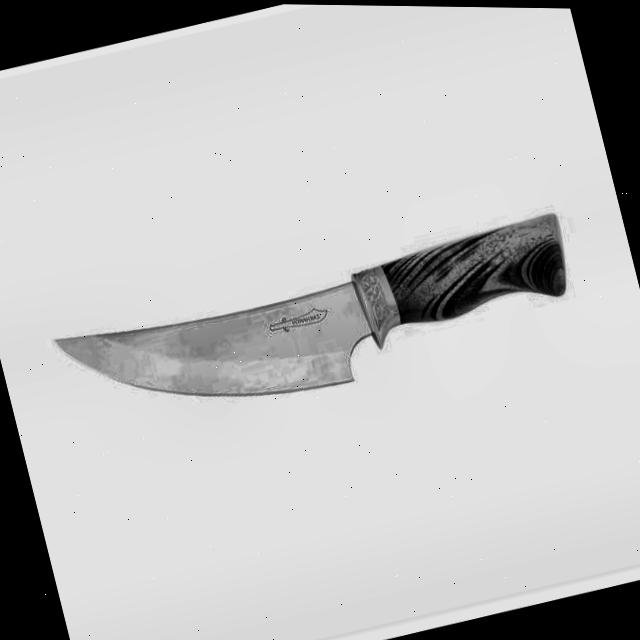pisau: (36, 199, 593, 418)
